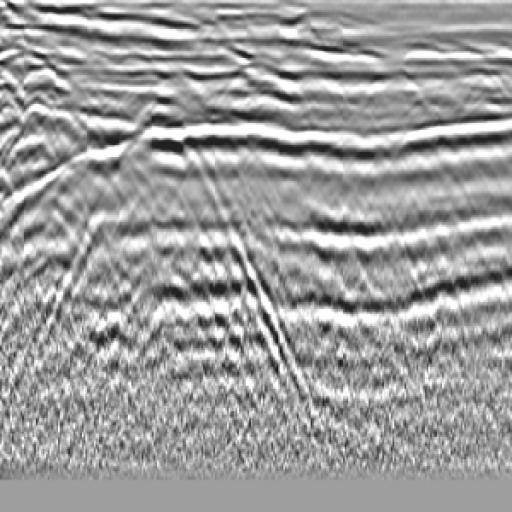non-metallic: (1, 85, 336, 423)
